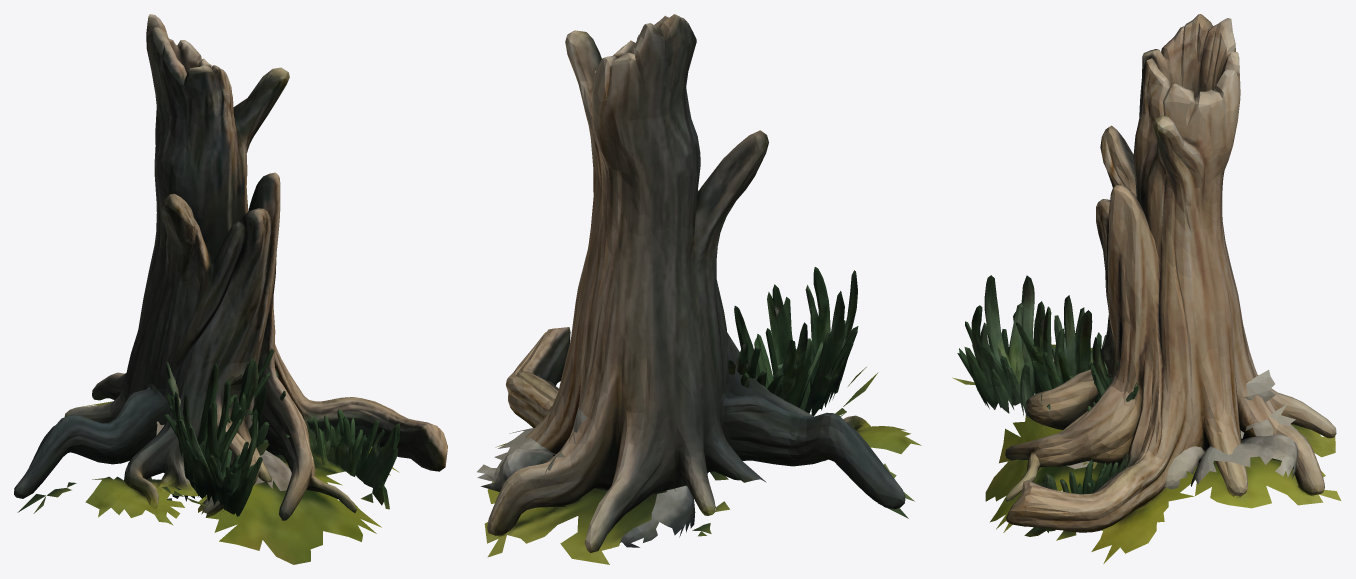
Rendered from kit_terrain4.glb.
The picture shows the model from 3 angles, left to right: view 1: azimuth 30°, elevation 25°; view 2: azimuth 150°, elevation 25°; view 3: azimuth 270°, elevation 25°; orthographic projection. The views are drawn at different scales.
Parts seen in each view (by area): view 1: oak_0, rock_2, rock_1, plant_5, plant_4; view 2: oak_0, rock_2, rock_1; view 3: oak_0, rock_2.
Boxes of the visible parts, x1,y1,x2,y2 form: oak_0: [14, 14, 447, 564]; rock_2: [156, 361, 262, 516]; rock_1: [167, 434, 291, 501]; plant_5: [230, 348, 274, 421]; plant_4: [239, 363, 300, 466]; oak_0: [484, 14, 921, 564]; rock_2: [477, 267, 878, 491]; rock_1: [620, 485, 711, 547]; oak_0: [985, 14, 1340, 563]; rock_2: [952, 275, 1298, 489].
Bounding box in the file's own units: 37.55 × 44.87 × 34.08.
1 material, 1 textured.
